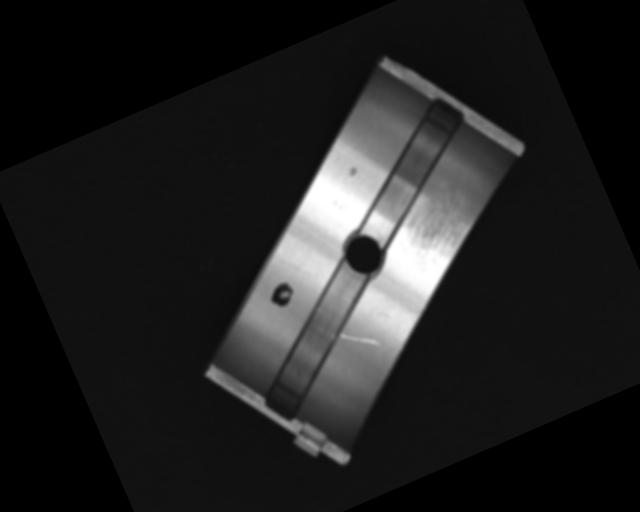blot: (265, 279, 298, 311)
bruise: (346, 165, 358, 177)
gap: (225, 256, 409, 430), (325, 91, 497, 247)
hole: (336, 222, 393, 283)
nick: (338, 319, 382, 358), (278, 248, 312, 288)
scratch: (388, 183, 491, 285)
